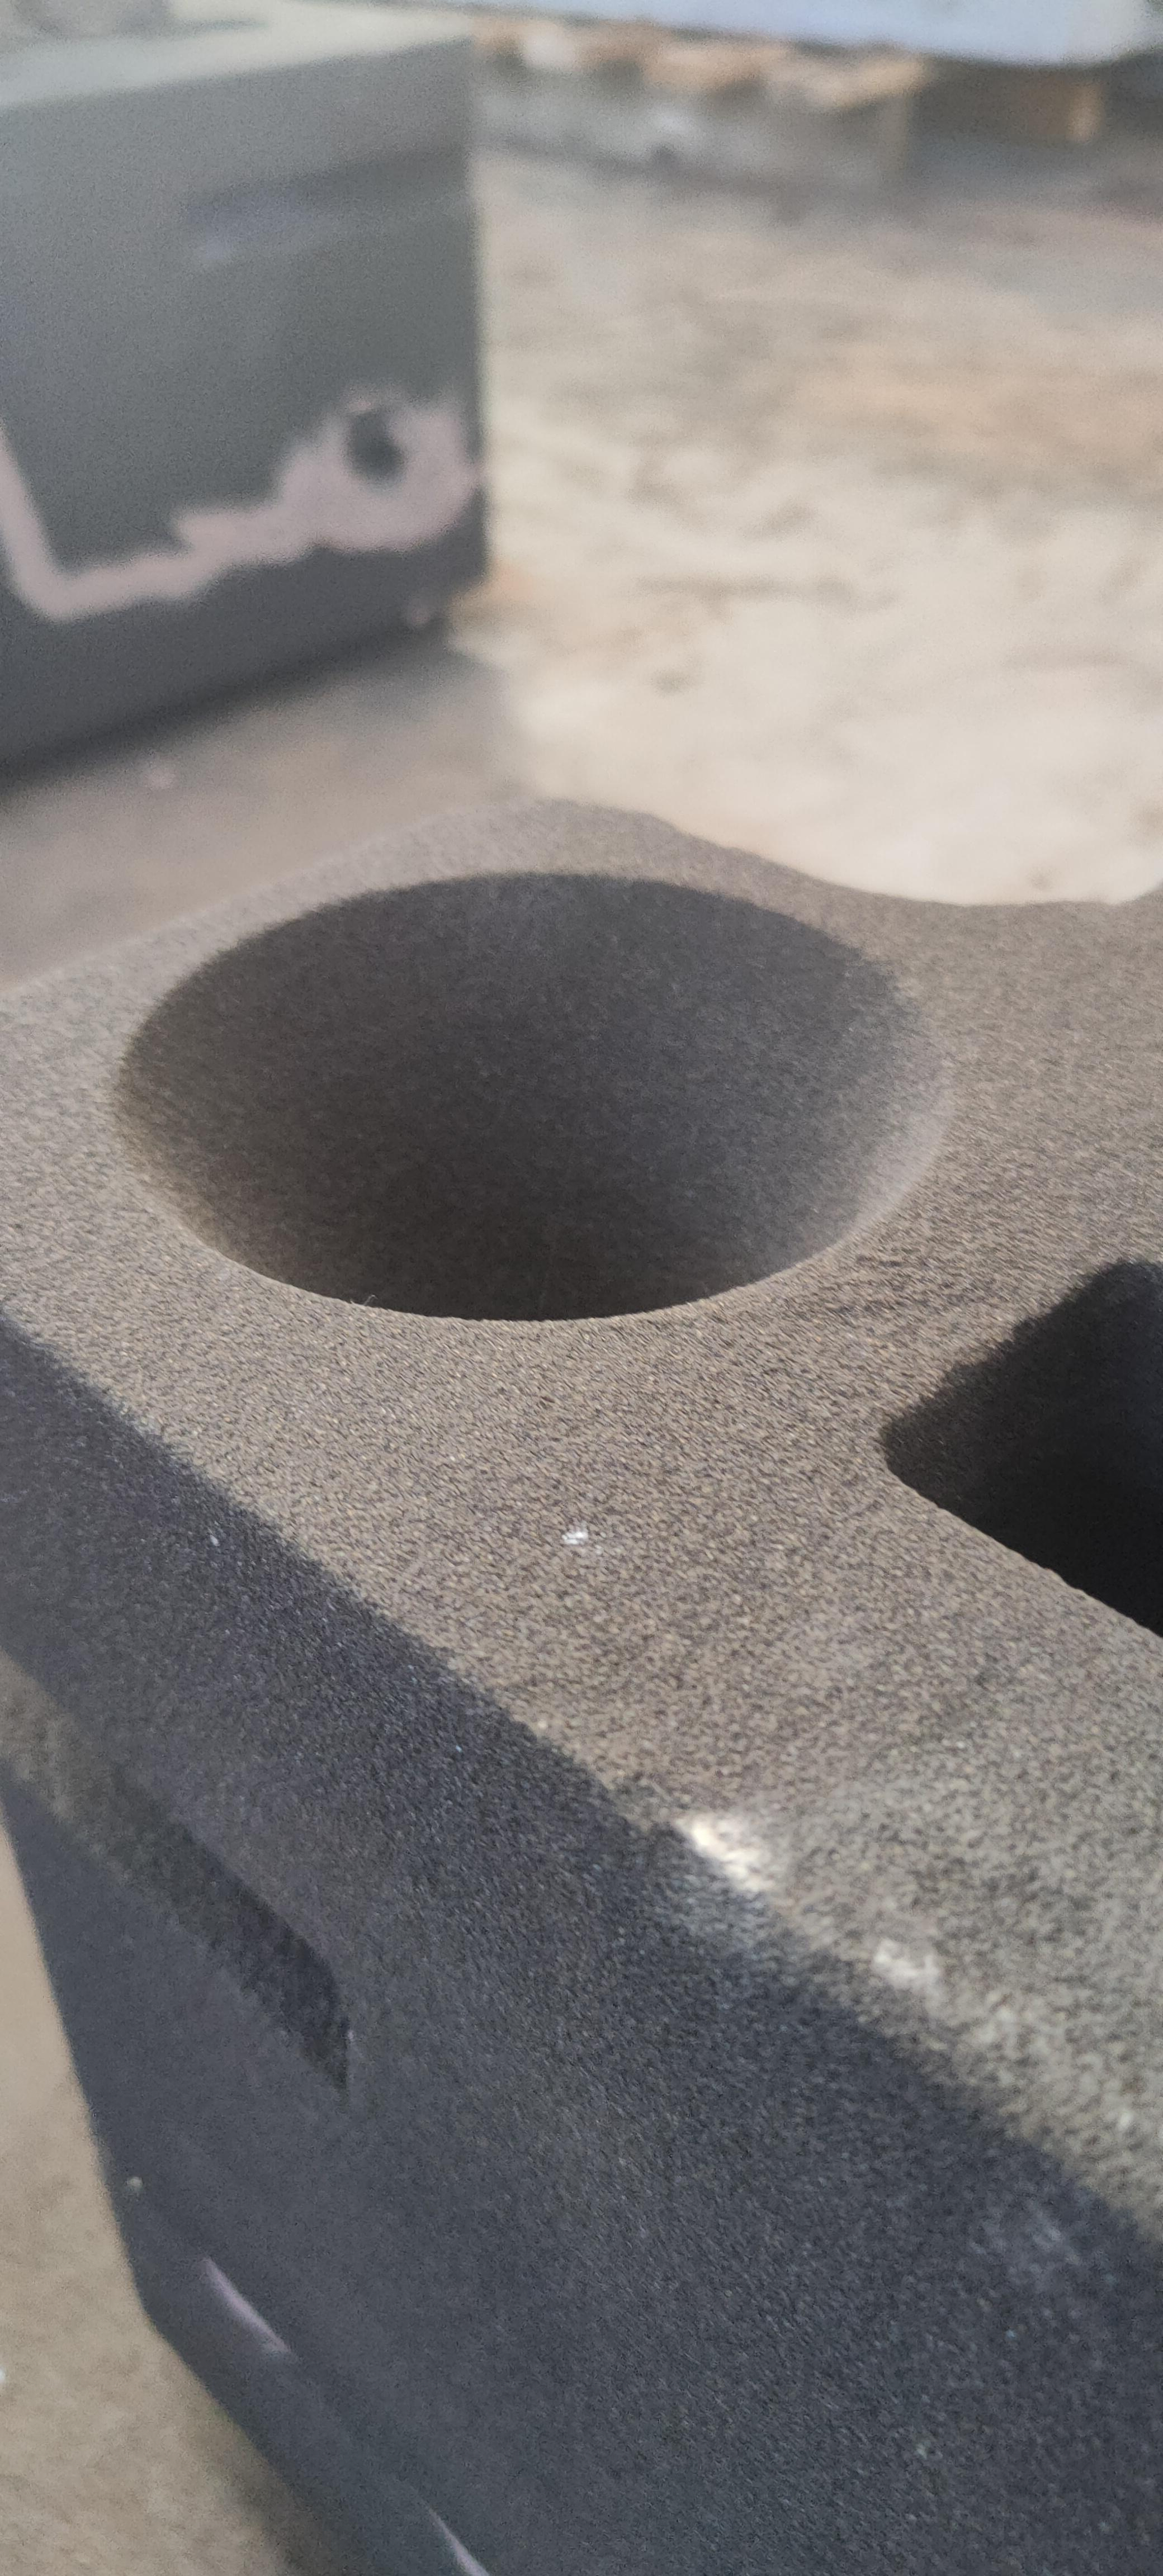pouring hole: (108, 869, 945, 1322)
